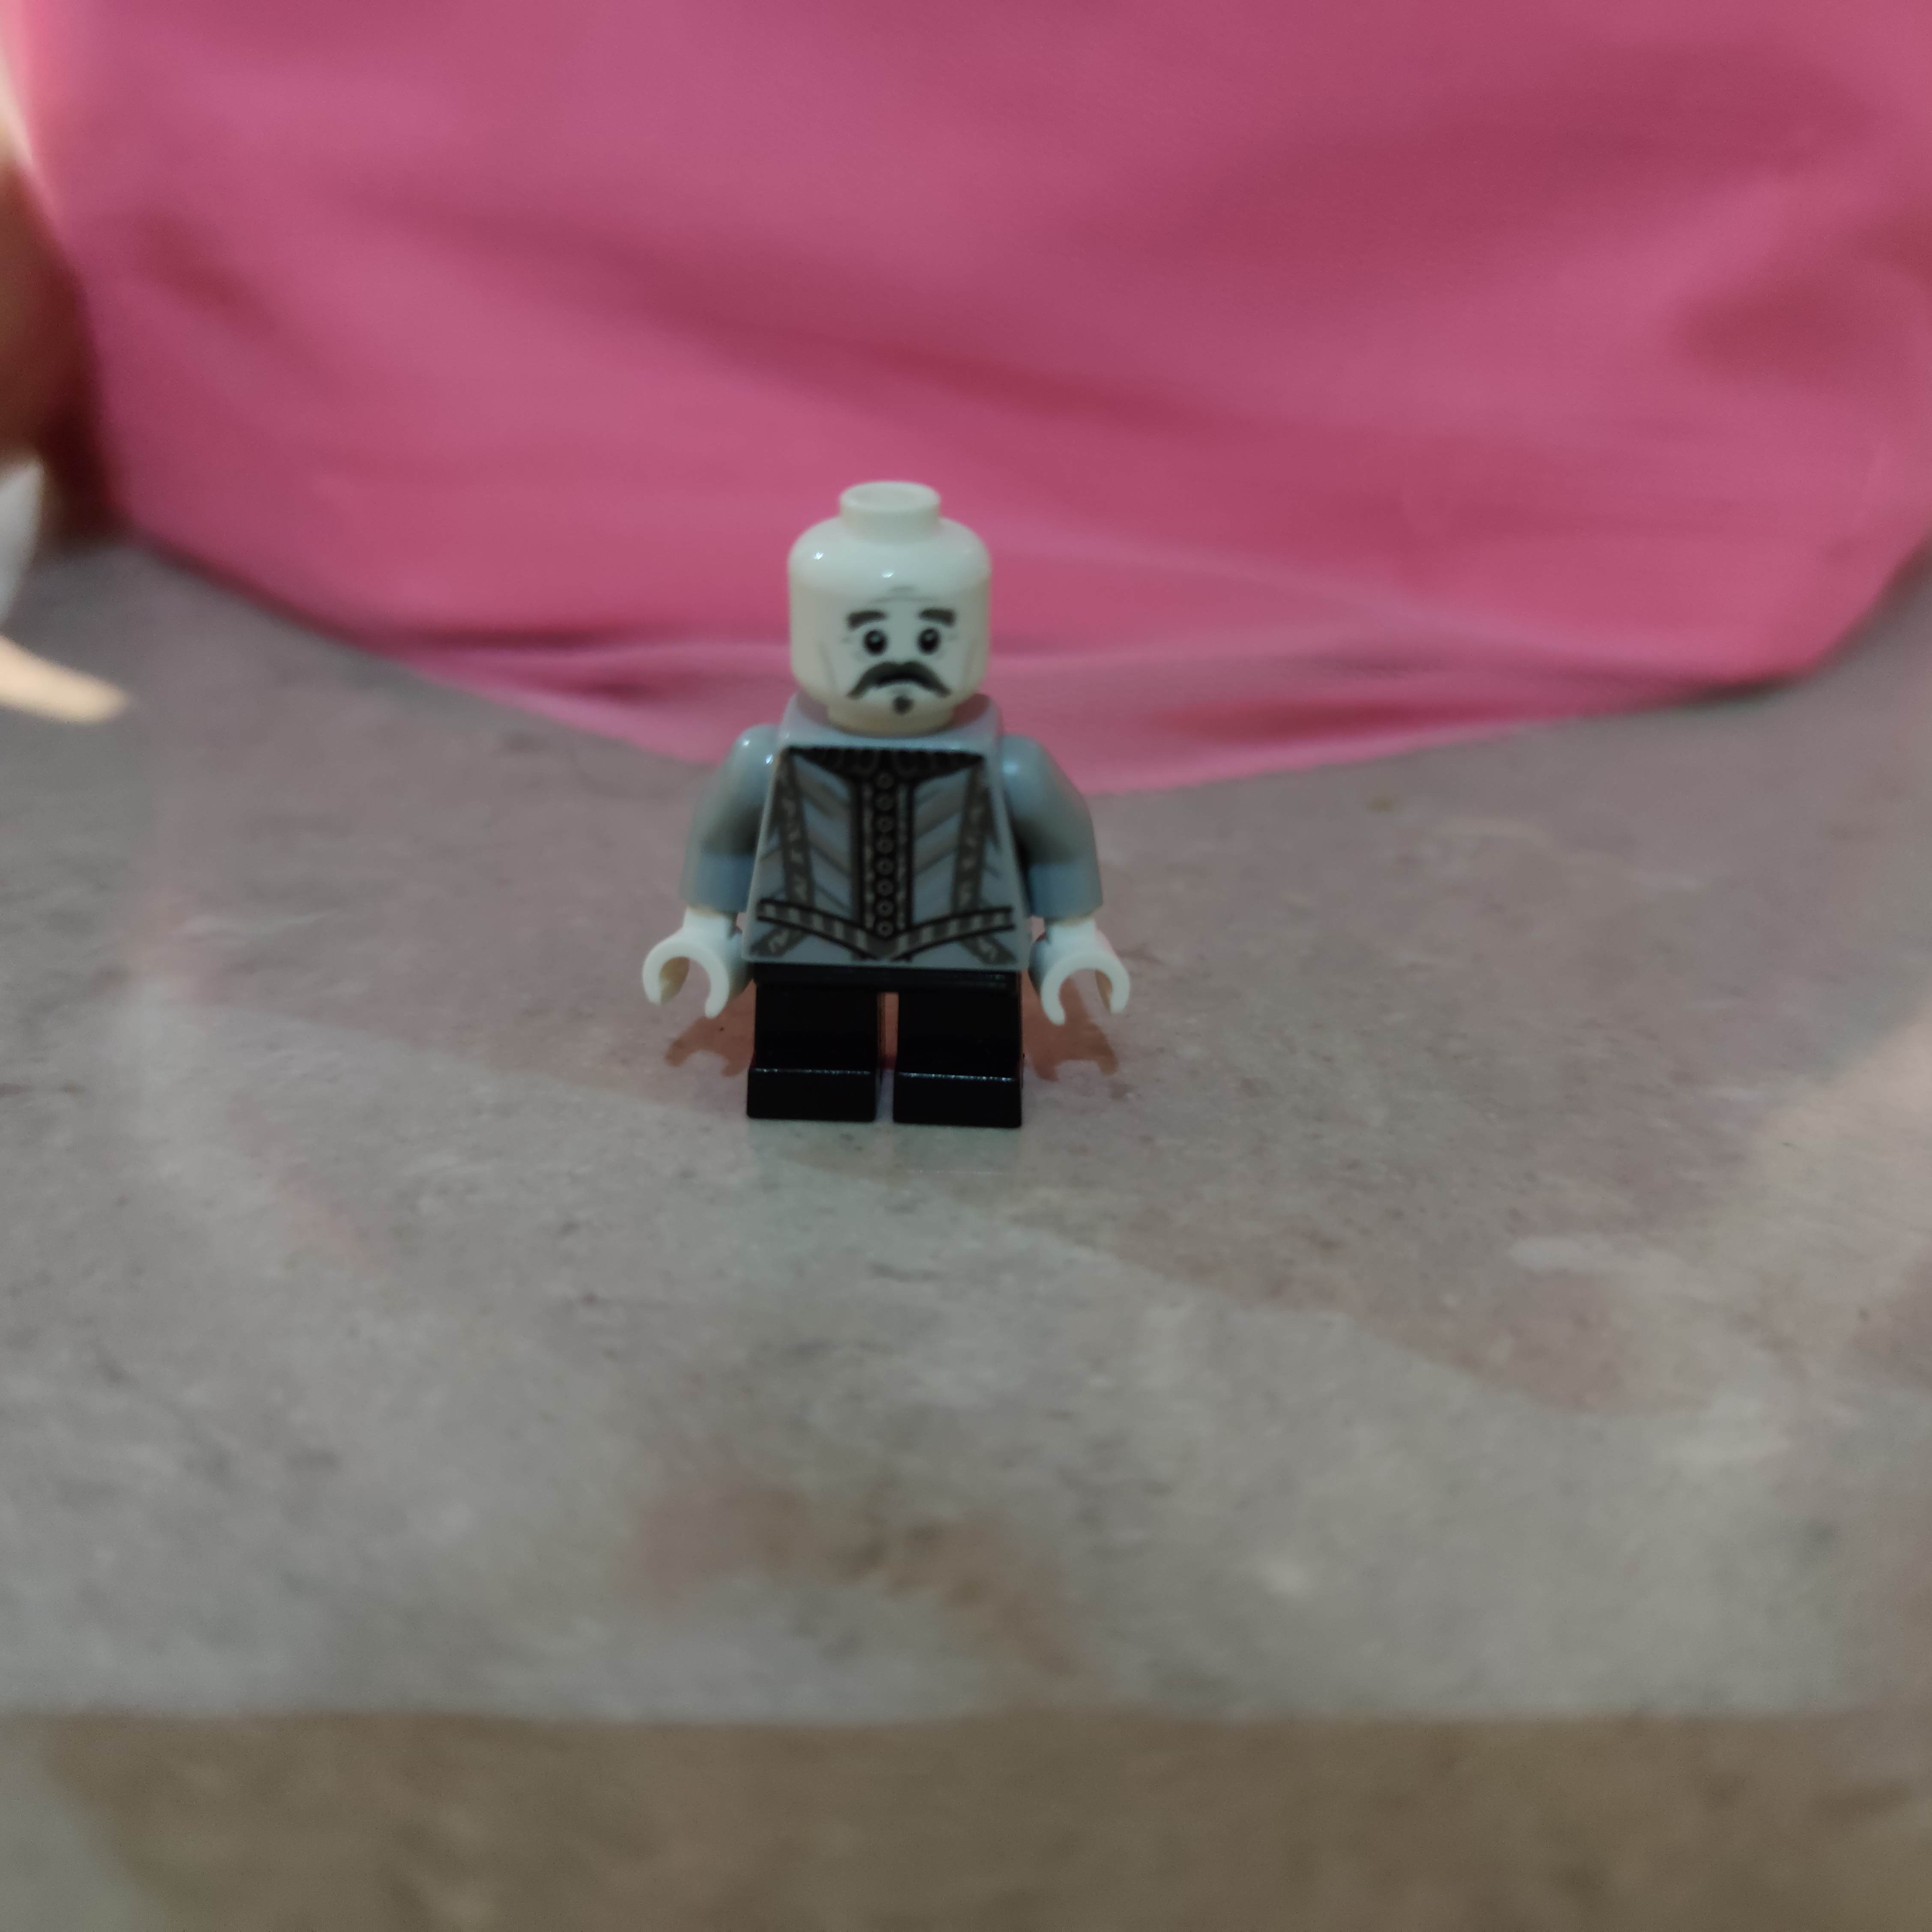lego: (637, 481, 1143, 1141)
